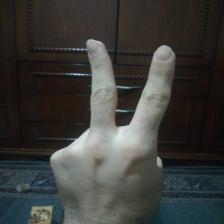two: (50, 36, 181, 223)
